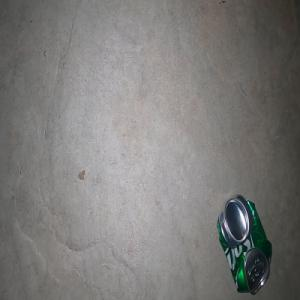SodaCan: (216, 193, 272, 295)
